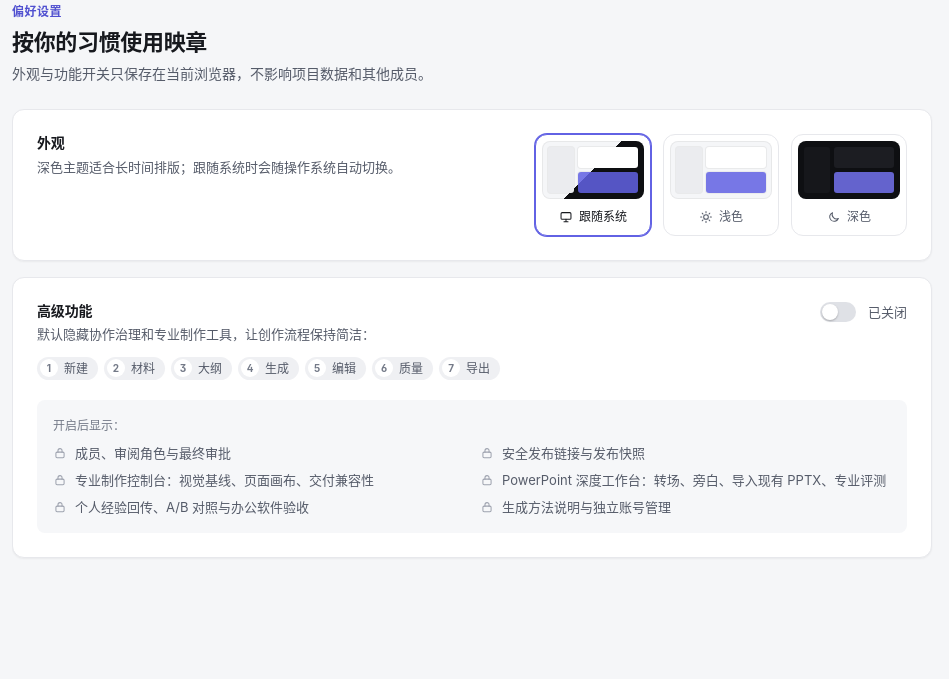
Test: 高级功能默认关闭，开启后持久保存
The width and height of the screenshot is (949, 679).
Click the switch named "显示高级功能".
click(838, 312)  # box [820,302,856,322]
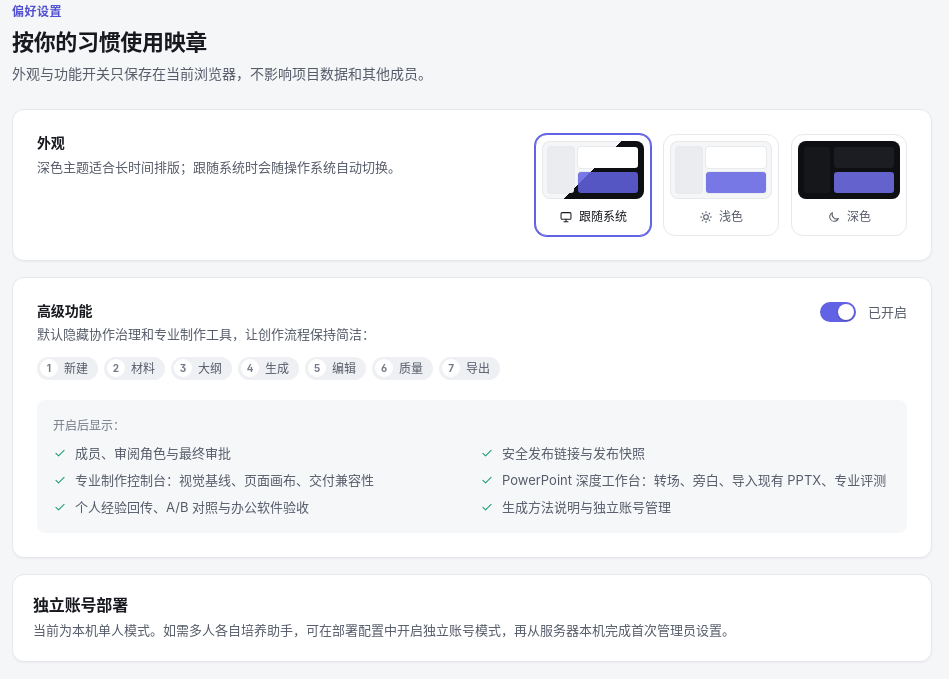
Expected: the text "已开启" is shown, [868,302,907,322]
